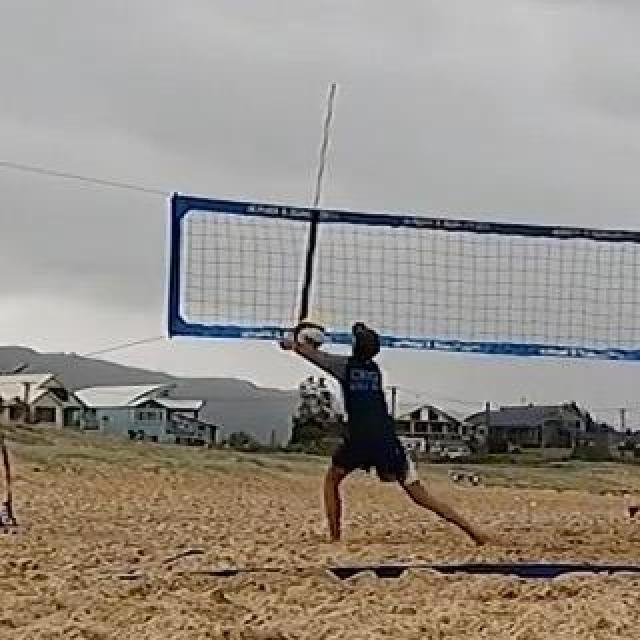volleyball: (294, 319, 324, 351)
